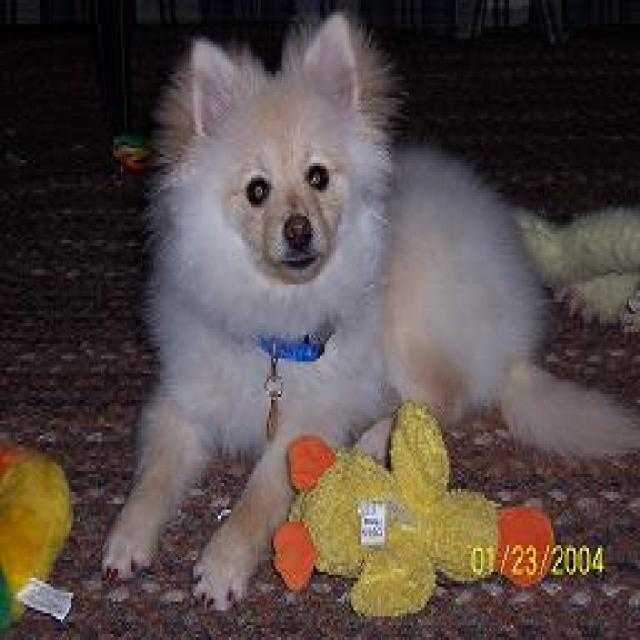dog-pomeranian: (96, 18, 633, 607)
